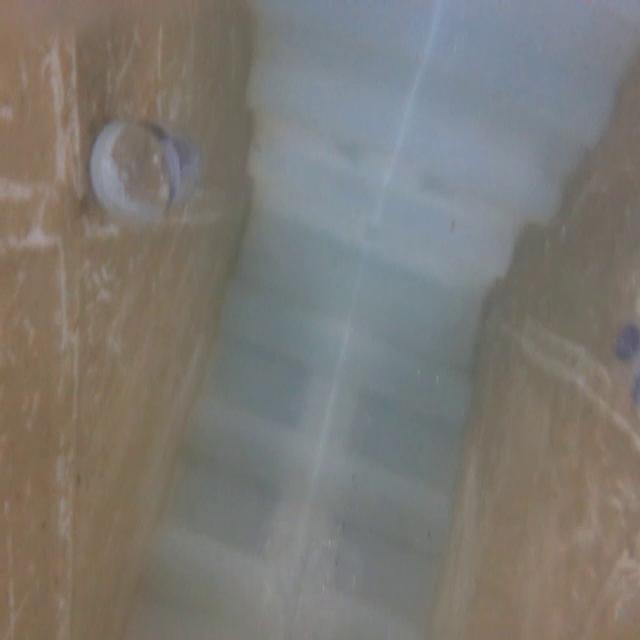plastic bottle: (83, 114, 202, 253)
